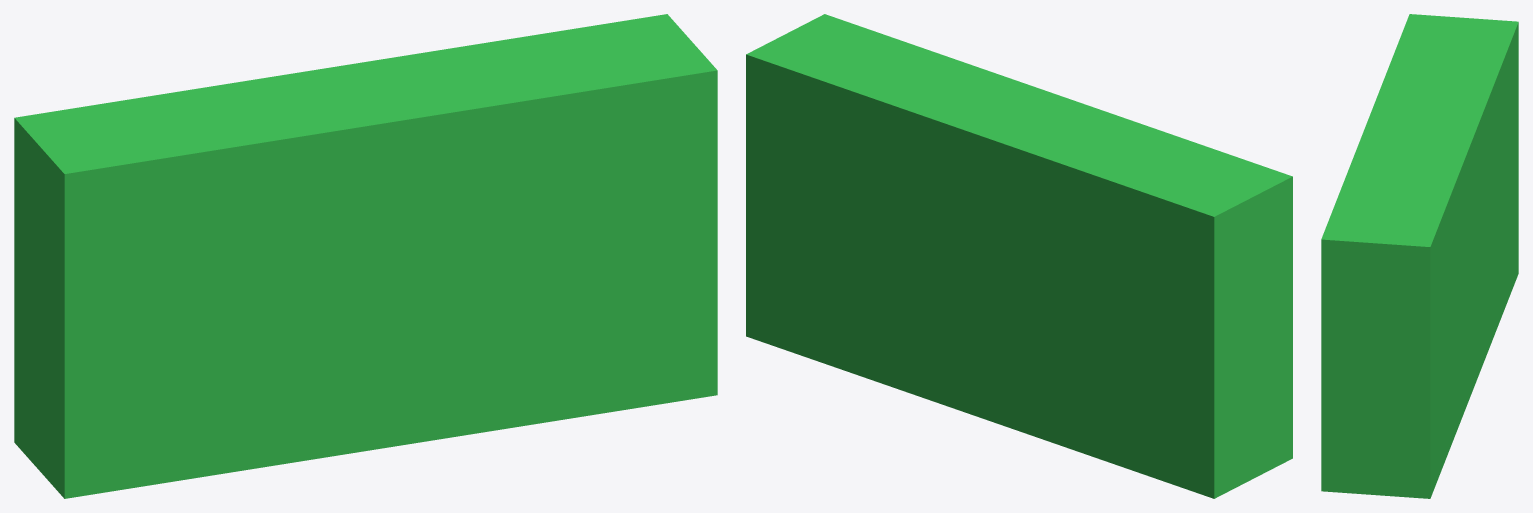
File: original-8.obj
3 renders of one model, left to right at view 1: azimuth 30°, elevation 25°; view 2: azimuth 150°, elevation 25°; view 3: azimuth 270°, elevation 25°, orthographic. The views are drawn at different scales.
Visible parts, largest first — view 1: group_4/ID59#ID59; view 2: group_4/ID59#ID59; view 3: group_4/ID59#ID59.
Part boxes in pixels (x1=…): group_4/ID59#ID59: x1=14, y1=14, x2=717, y2=498; group_4/ID59#ID59: x1=746, y1=14, x2=1292, y2=498; group_4/ID59#ID59: x1=1321, y1=14, x2=1518, y2=498.
Size of the model in its own units: 0.5335 by 0.2686 by 0.191.
